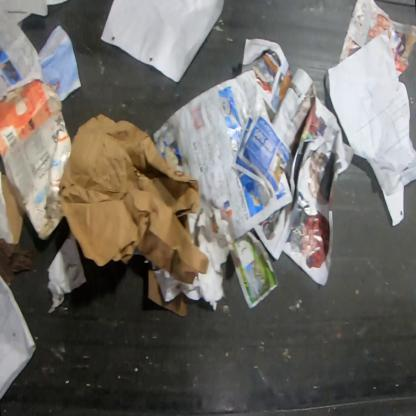cardboard: (59, 112, 210, 284), (0, 72, 72, 242), (147, 269, 189, 317), (2, 174, 25, 245)
